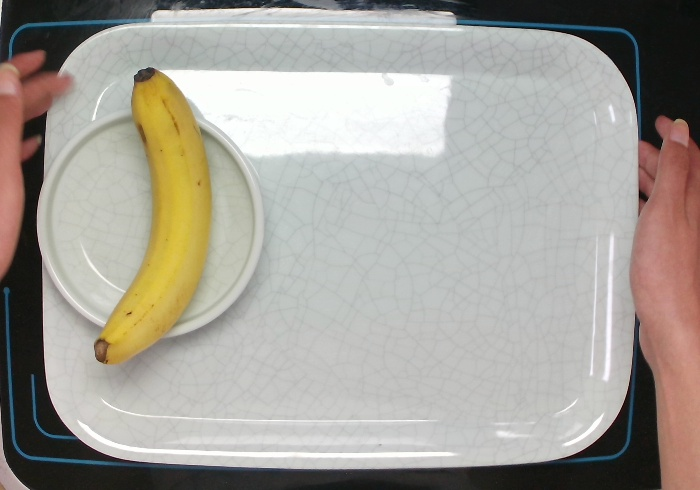JYsf-Xiao_Yuan_Pan: (31, 106, 272, 343)
